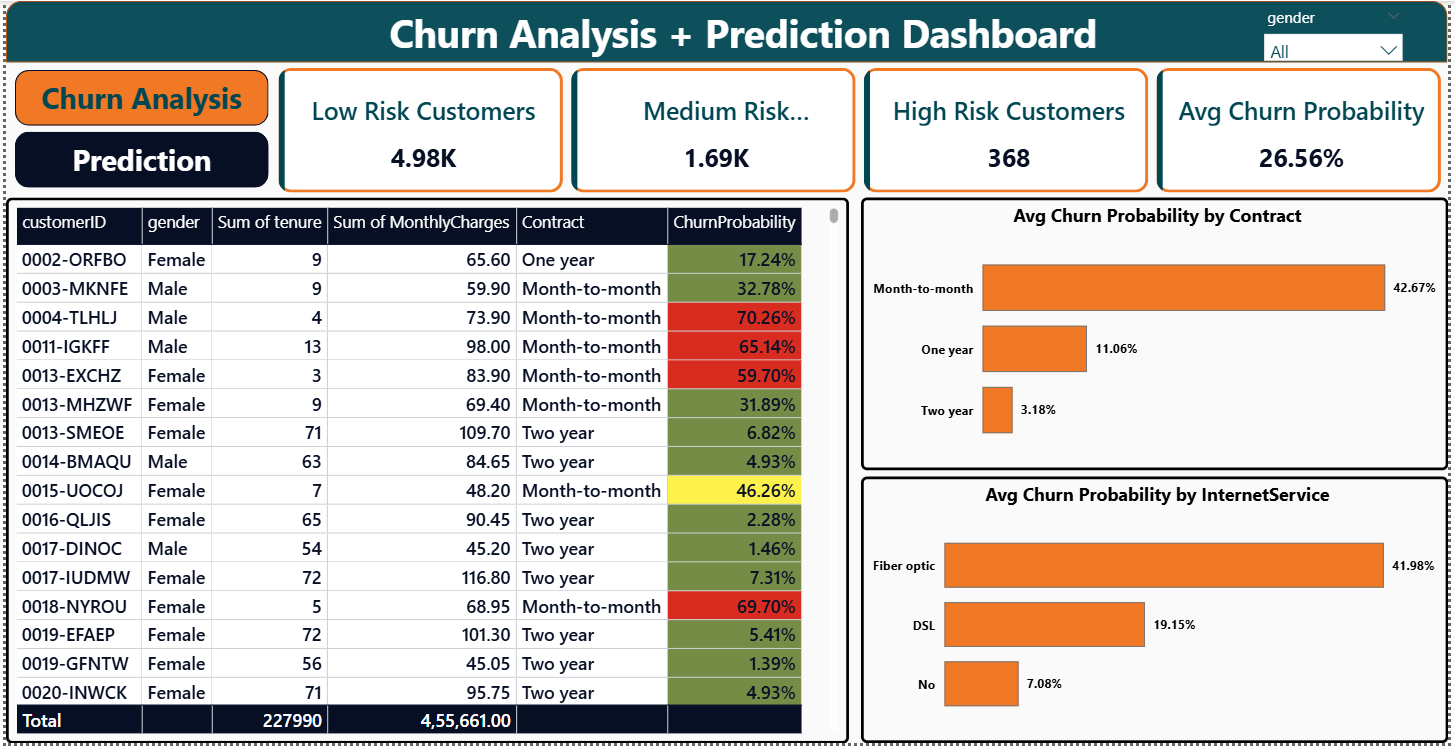

What the dashboard file says about the page in this screenshot:
{"tool":"powerbi","page":{"name":"Prediction ","canvas":[1400,720],"ordinal":1},"visuals":[{"type":"cardVisual","fields":{"Data":["Telco_Churn_Predictions.Low Risk Customers","Telco_Churn_Predictions.Medium Risk Customers","Telco_Churn_Predictions.High Risk Customers","Telco_Churn_Predictions.Avg Churn Probability"]},"box":[259.1,59.7,1141.2,131],"z":0},{"type":"clusteredBarChart","fields":{"Y":["Telco_Churn_Predictions.Avg Churn Probability"],"Category":["WA_Fn-UseC_-Telco-Customer-Churn.Contract"]},"box":[829.7,190.5,569.7,265],"z":1000},{"type":"clusteredBarChart","fields":{"Y":["Telco_Churn_Predictions.Avg Churn Probability"],"Category":["WA_Fn-UseC_-Telco-Customer-Churn.InternetService"]},"box":[829.7,462.1,569.7,258.4],"z":2000},{"type":"tableEx","fields":{"Values":["WA_Fn-UseC_-Telco-Customer-Churn.customerID","WA_Fn-UseC_-Telco-Customer-Churn.gender","Sum(WA_Fn-UseC_-Telco-Customer-Churn.tenure)","Sum(WA_Fn-UseC_-Telco-Customer-Churn.MonthlyCharges)","WA_Fn-UseC_-Telco-Customer-Churn.Contract","Telco_Churn_Predictions.ChurnProbability"]},"box":[0,190.5,818.3,530.1],"z":3000},{"type":"shape","box":[0,0,1398.8,59.7],"z":4000},{"type":"textbox","box":[326,0,778.7,59.7],"z":5000},{"type":"pageNavigator","box":[8.3,66.3,246.8,114.3],"z":6000},{"type":"slicer","fields":{"Values":["WA_Fn-UseC_-Telco-Customer-Churn.gender"]},"box":[1211,0,154.3,58.2],"z":7000}]}

Visuals, with their boxes in screenshot pixels (x1, y1, x2, y2), scaled from the page's 1400x720 canvas onto the 1455x747 screenshot:
cardVisual - Telco_Churn_Predictions.Low Risk Customers x Telco_Churn_Predictions.Medium Risk Customers: crop(269, 62, 1454, 198)
clusteredBarChart - Telco_Churn_Predictions.Avg Churn Probability x WA_Fn-UseC_-Telco-Customer-Churn.Contract: crop(862, 198, 1454, 473)
clusteredBarChart - Telco_Churn_Predictions.Avg Churn Probability x WA_Fn-UseC_-Telco-Customer-Churn.InternetService: crop(862, 479, 1454, 746)
tableEx - WA_Fn-UseC_-Telco-Customer-Churn.customerID x WA_Fn-UseC_-Telco-Customer-Churn.gender: crop(0, 198, 850, 746)
shape: crop(0, 0, 1454, 62)
textbox: crop(339, 0, 1148, 62)
pageNavigator: crop(9, 69, 265, 187)
slicer - WA_Fn-UseC_-Telco-Customer-Churn.gender: crop(1259, 0, 1419, 60)
